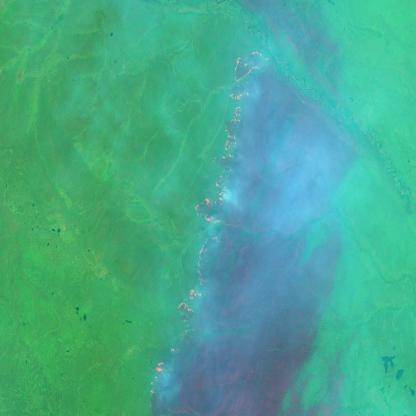fire: (148, 46, 266, 416)
